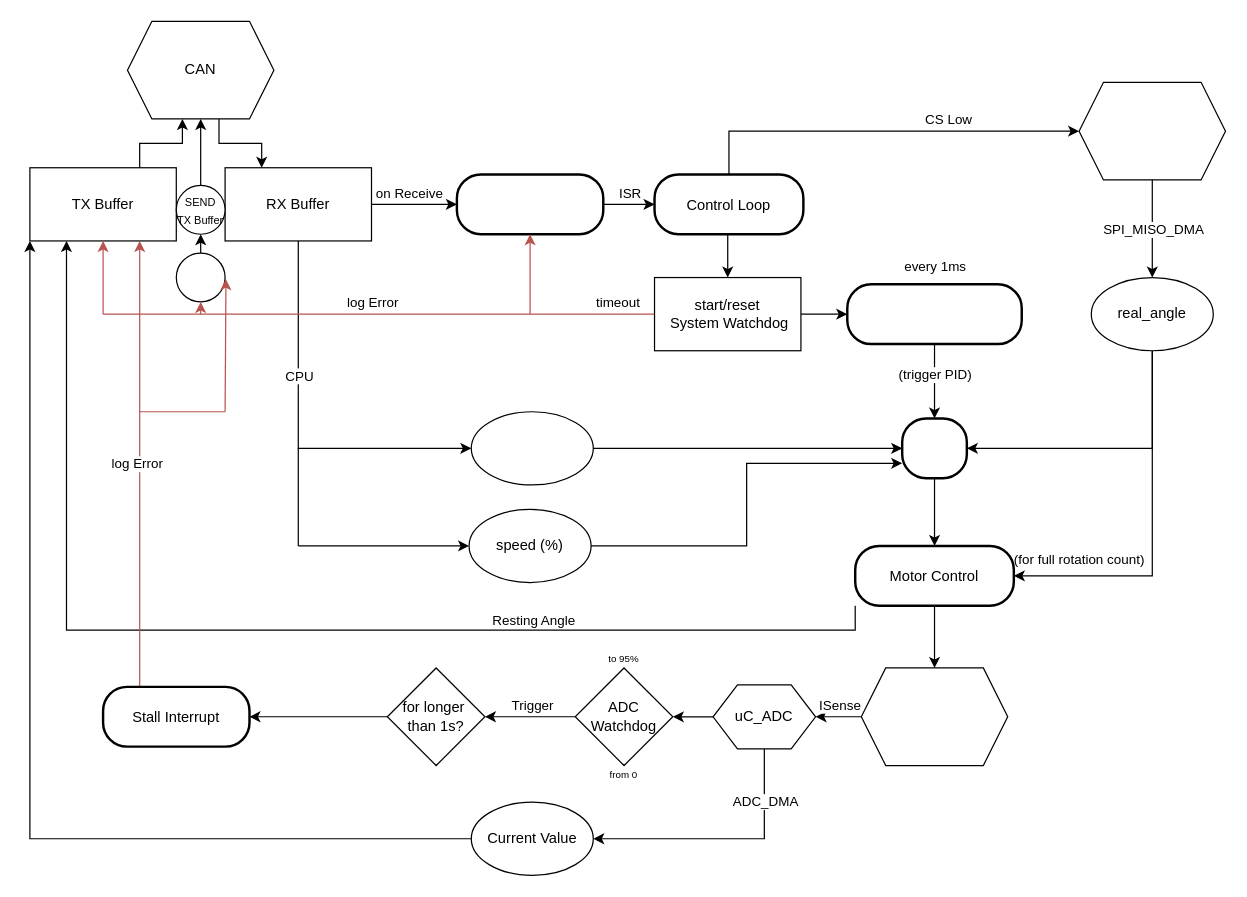
This 1247x897 diagram has some shape labels left out. The shapes that lost their labels are listed below. From the top down, each one's centre as x and y in pixels, then its label:
At point 1151,130: "Encoder".
At point 529,204: "COM Interrupt".
At point 200,277: "Toggle to TX".
At point 933,313: "Timer Interrupt".
At point 531,448: "target_angle".
At point 933,448: "PID".
At point 934,716: "Driver".
